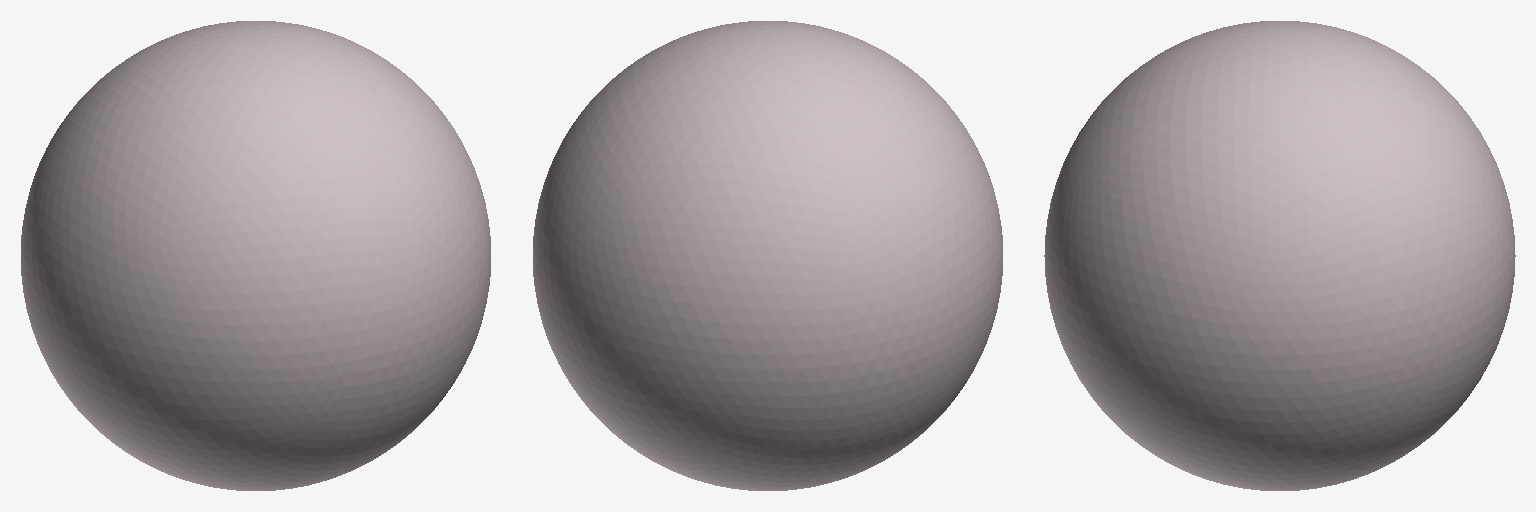
The model's file is clouds_fixed.obj.
3 views of the same model, side by side, from view 1: azimuth 30°, elevation 25°; view 2: azimuth 150°, elevation 25°; view 3: azimuth 270°, elevation 25° (orthographic).
Visible parts, largest first — view 1: Icosphere.042, Icosphere.040, Icosphere.025, Icosphere.029, Icosphere.039, Icosphere.038, Icosphere.043, Icosphere.041, Icosphere.027, Icosphere.036, Icosphere.037, Icosphere.044 (+2 smaller); view 2: Icosphere.032, Icosphere.029, Icosphere.031, Icosphere.028, Icosphere.030, Icosphere.033, Icosphere.027, Icosphere.037, Icosphere.038, Icosphere.025, Icosphere.036, Icosphere.040 (+1 smaller); view 3: Icosphere.033, Icosphere.036, Icosphere.034, Icosphere.035, Icosphere.043, Icosphere.032, Icosphere.044, Icosphere.038, Icosphere.037, Icosphere.039, Icosphere.026, Icosphere.028 (+1 smaller).
Part boxes in pixels (bbox=[...]): Icosphere.042: bbox=[188, 220, 430, 384]; Icosphere.040: bbox=[107, 150, 297, 324]; Icosphere.025: bbox=[33, 256, 212, 441]; Icosphere.029: bbox=[22, 59, 177, 343]; Icosphere.039: bbox=[194, 107, 437, 226]; Icosphere.038: bbox=[156, 40, 417, 158]; Icosphere.043: bbox=[362, 162, 490, 440]; Icosphere.041: bbox=[158, 351, 376, 457]; Icosphere.027: bbox=[33, 332, 415, 490]; Icosphere.036: bbox=[303, 25, 475, 203]; Icosphere.037: bbox=[143, 21, 361, 69]; Icosphere.044: bbox=[414, 247, 490, 429]; Icosphere.032: bbox=[577, 84, 824, 334]; Icosphere.029: bbox=[801, 84, 990, 393]; Icosphere.031: bbox=[683, 257, 911, 456]; Icosphere.028: bbox=[554, 305, 802, 476]; Icosphere.030: bbox=[742, 177, 926, 338]; Icosphere.033: bbox=[533, 107, 633, 396]; Icosphere.027: bbox=[657, 370, 962, 490]; Icosphere.037: bbox=[662, 23, 831, 117]; Icosphere.038: bbox=[735, 21, 927, 101]; Icosphere.025: bbox=[942, 208, 1002, 404]; Icosphere.036: bbox=[556, 25, 720, 153]; Icosphere.040: bbox=[909, 68, 998, 215]; Icosphere.033: bbox=[1316, 128, 1499, 461]; Icosphere.036: bbox=[1123, 94, 1414, 259]; Icosphere.034: bbox=[1187, 287, 1376, 467]; Icosphere.035: bbox=[1153, 221, 1368, 388]; Icosphere.043: bbox=[1047, 180, 1165, 412]; Icosphere.032: bbox=[1358, 35, 1514, 275]; Icosphere.044: bbox=[1089, 314, 1205, 454]; Icosphere.038: bbox=[1131, 21, 1312, 158]; Icosphere.037: bbox=[1218, 22, 1372, 105]; Icosphere.039: bbox=[1076, 35, 1198, 193]; Icosphere.026: bbox=[1135, 439, 1413, 490]; Icosphere.028: bbox=[1402, 248, 1515, 453].
Size of the model in its own units: 21.66 by 21.66 by 21.66.